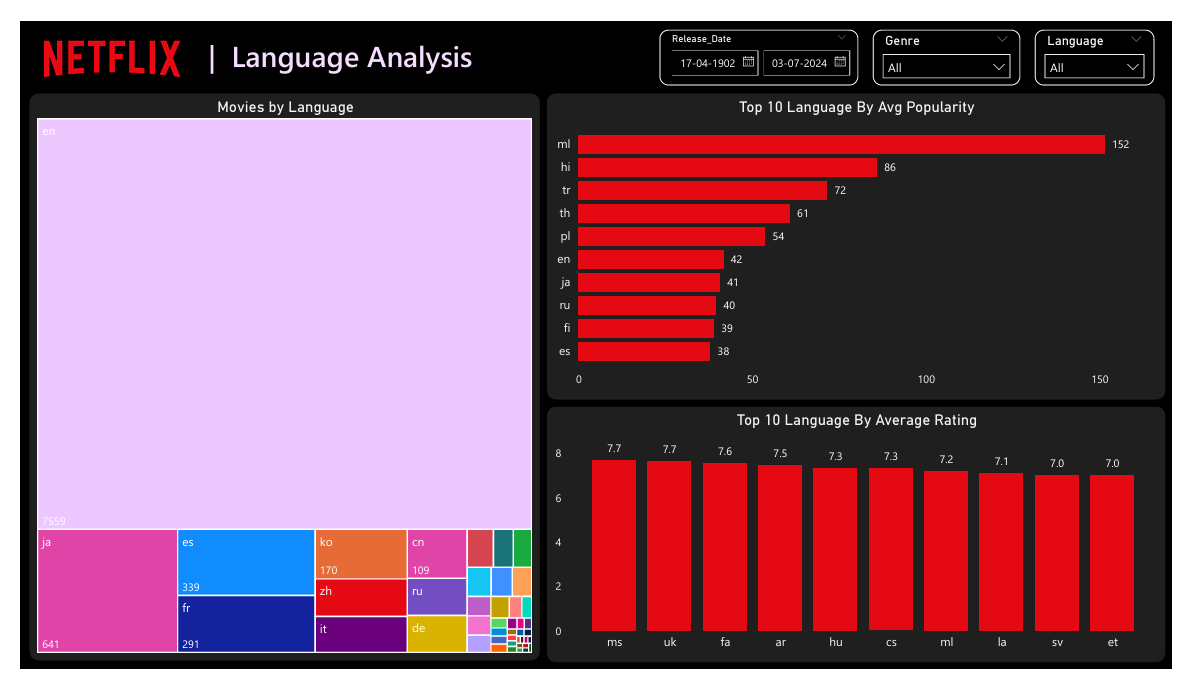

What the dashboard file says about the page in this screenshot:
{"tool":"powerbi","page":{"name":"Language Analysis","canvas":[1280,720],"ordinal":3},"visuals":[{"type":"columnChart","title":"Top 10 Language By Average Rating","fields":{"Y":["Measures (3).Average Rating"],"Category":["Netflix_dataset.Original_Language"]},"box":[585,428.3,686.7,283.3],"z":0},{"type":"image","box":[1.7,13.3,201.7,60],"z":1000},{"type":"textbox","box":[203.3,10,338.3,55],"z":2000},{"type":"treemap","fields":{"Group":["Netflix_dataset.Original_Language"],"Values":["Measures (3).Total Movies"]},"box":[10,80,566.7,630],"z":3000},{"type":"barChart","title":"Top 10 Language By Avg Popularity","fields":{"Y":["Measures (3).Average Popularity"],"Category":["Netflix_dataset.Original_Language"]},"box":[585,80,686.7,340],"z":4001},{"type":"slicer","fields":{"Values":["Netflix_dataset.Release_Date"]},"box":[710,8.6,221.4,62.9],"z":4002},{"type":"slicer","fields":{"Values":["Netflix_dataset.Genre"]},"box":[947.1,8.6,164.3,62],"z":4003},{"type":"slicer","fields":{"Values":["Netflix_dataset.Original_Language"]},"box":[1127.1,8.6,132.9,62.9],"z":4004}]}

Visuals, with their boxes in screenshot pixels (x1, y1, x2, y2), scaled from the page's 1280x720 canvas onto the 1194x690 screenshot:
"Top 10 Language By Average Rating" columnChart: 546/410/1186/682
image: 2/13/190/70
textbox: 190/10/505/62
treemap - Netflix_dataset.Original_Language x Measures (3).Total Movies: 9/77/538/680
"Top 10 Language By Avg Popularity" barChart: 546/77/1186/402
slicer - Netflix_dataset.Release_Date: 662/8/869/69
slicer - Netflix_dataset.Genre: 883/8/1037/68
slicer - Netflix_dataset.Original_Language: 1051/8/1175/69
